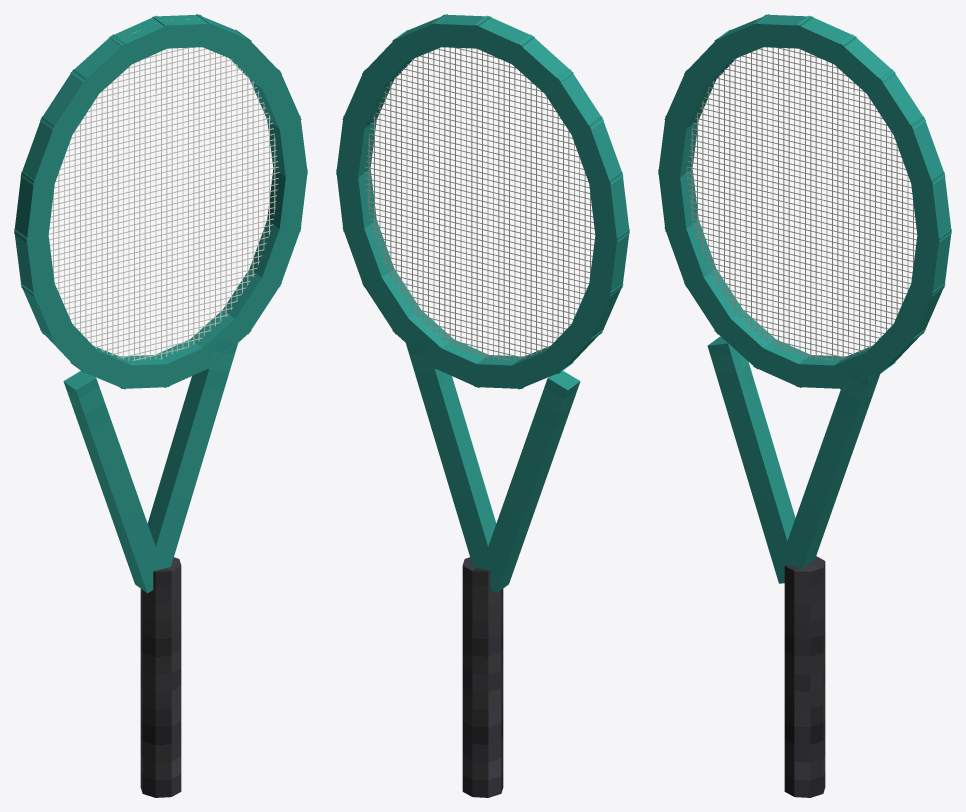
3 views of the same model, side by side, from view 1: azimuth 30°, elevation 25°; view 2: azimuth 150°, elevation 25°; view 3: azimuth 330°, elevation 25° (orthographic).
Visible parts, largest first — view 1: Racket_Frame, Racket_Strings, Racket_Grip; view 2: Racket_Frame, Racket_Strings, Racket_Grip; view 3: Racket_Frame, Racket_Strings, Racket_Grip.
Boxes of the visible parts, bbox=[...] form: Racket_Frame: bbox=[14, 14, 307, 593]; Racket_Strings: bbox=[48, 19, 279, 360]; Racket_Grip: bbox=[140, 557, 181, 797]; Racket_Frame: bbox=[336, 14, 629, 593]; Racket_Strings: bbox=[364, 19, 595, 360]; Racket_Grip: bbox=[462, 557, 503, 797]; Racket_Frame: bbox=[658, 14, 951, 583]; Racket_Strings: bbox=[686, 19, 917, 360]; Racket_Grip: bbox=[784, 556, 825, 797].
Bounding box in the file's own units: 0.2605 × 0.6804 × 0.034.
Materials: 3 (3 with a texture image).
